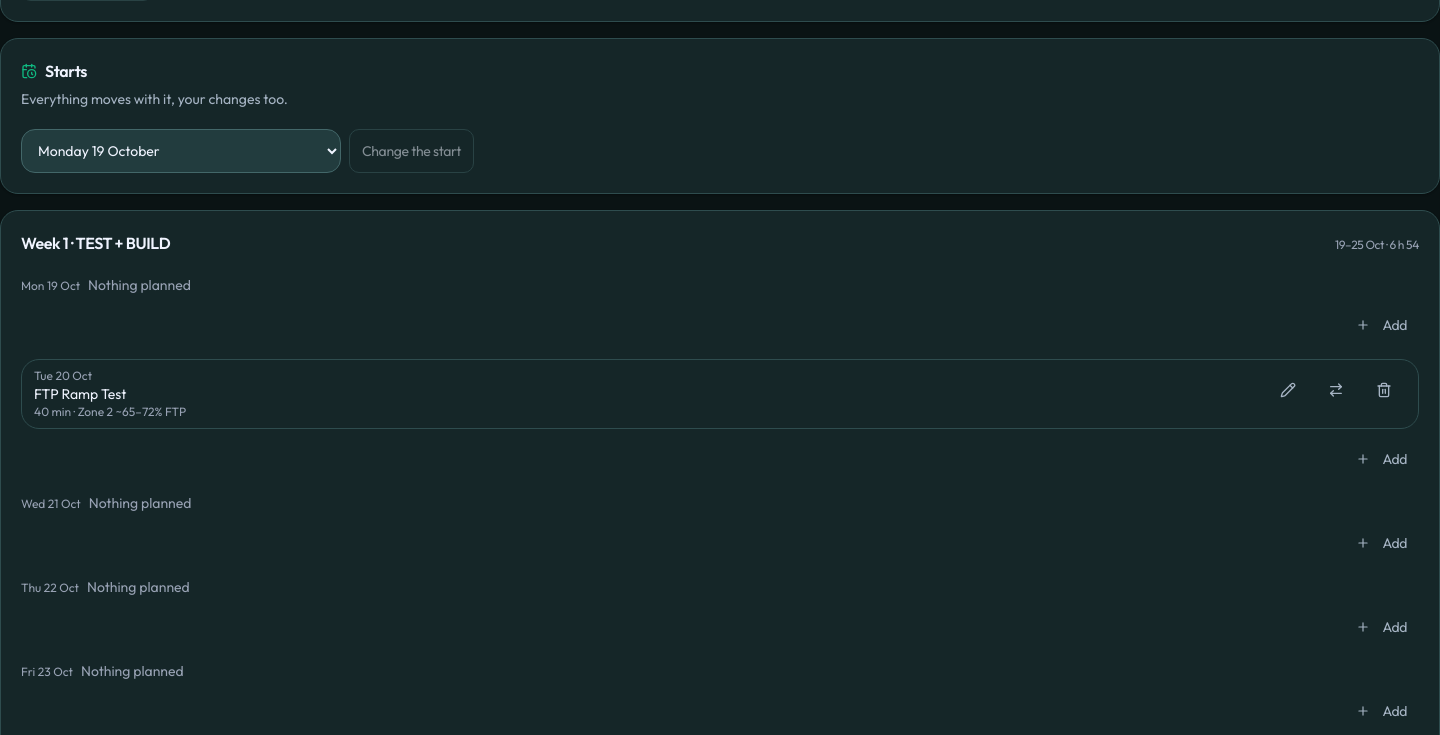
Test: BlockGeneratorPage: change anything in the proposed plan (Batch 324) › says why the ramp test stays as it is
(page scrolled)
Click the button named "Change FTP Ramp Test on Tue 20 Oct".
click(1288, 390)  # box x1=1266 y1=368 x2=1310 y2=412
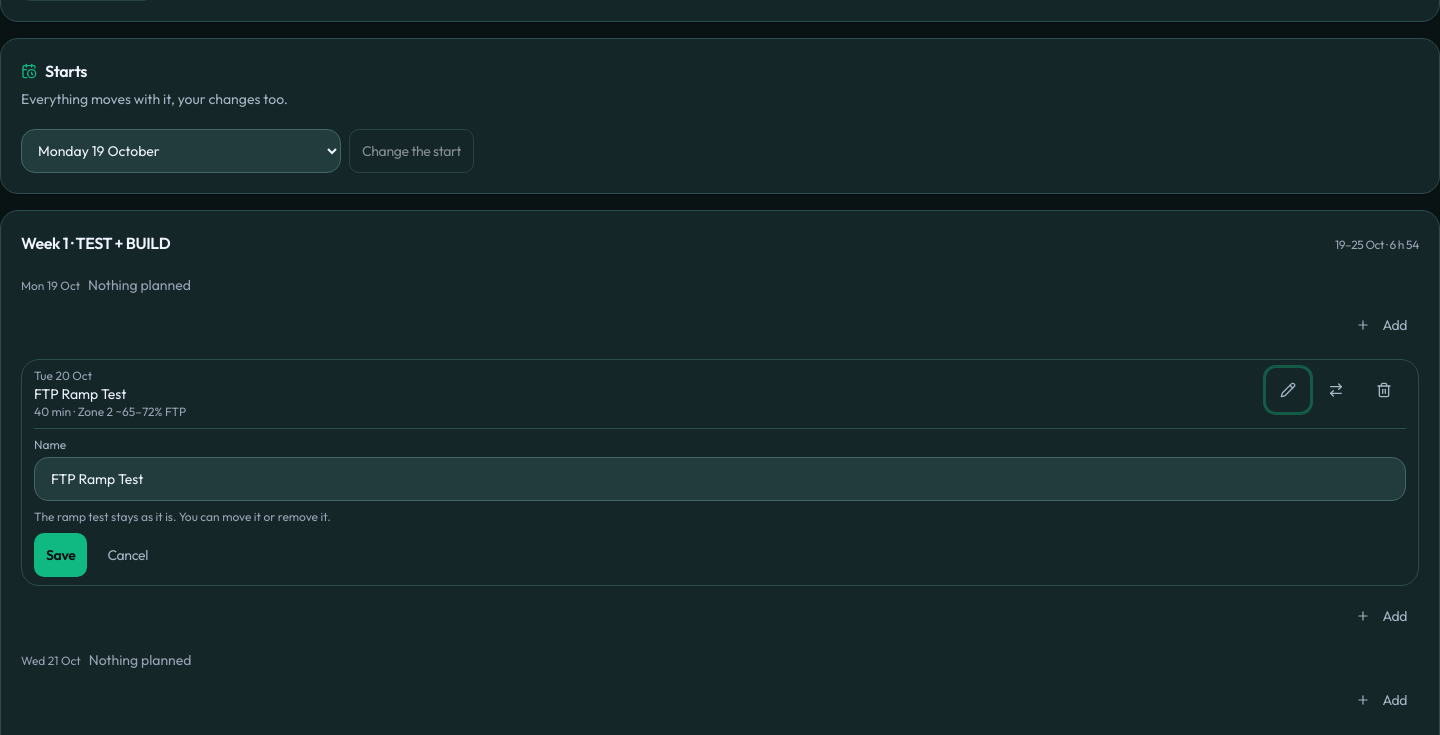
Now the text "The ramp test stays as it is. You can move it or remove it." is shown, box x1=34 y1=508 x2=331 y2=524
